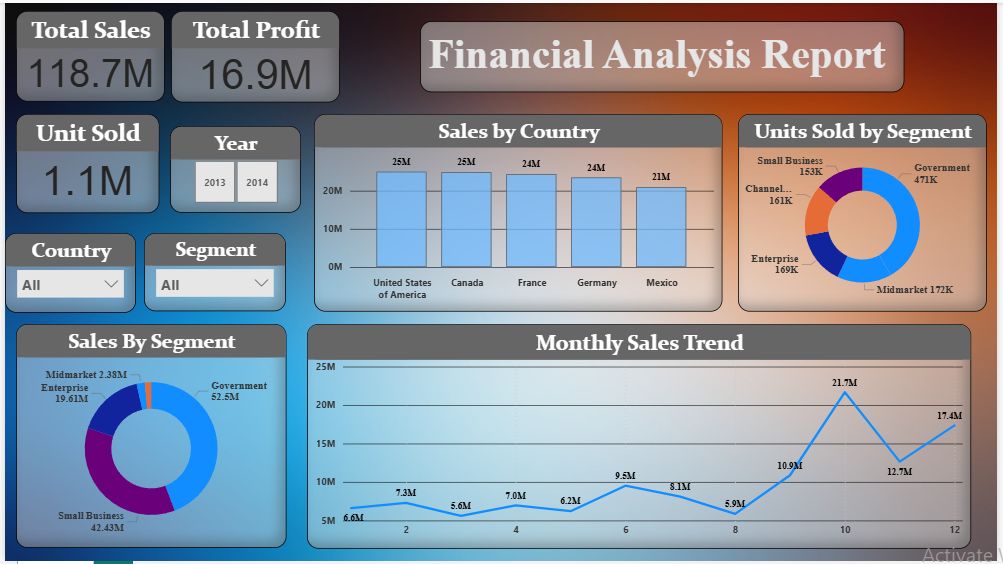

The page's visual inventory and layout, read from the dashboard file:
{"tool":"powerbi","page":{"name":"Page 1","canvas":[1280,720],"ordinal":0},"visuals":[{"type":"card","title":"Total Sales","fields":{"Values":["Sum(financials. Sales)"]},"box":[14.5,10.9,191.8,117],"z":0},{"type":"card","title":"Total Profit","fields":{"Values":["Sum(financials.Profit)"]},"box":[214.7,10.9,218.4,118.2],"z":1000},{"type":"card","title":"Unit Sold","fields":{"Values":["Sum(financials.Units Sold)"]},"box":[14.5,143.6,184.6,127.9],"z":2000},{"type":"donutChart","title":"Sales By Segment","fields":{"Y":["Sum(financials. Sales)"],"Category":["financials.Segment"]},"box":[14.1,413.6,348.7,289.4],"z":3000},{"type":"columnChart","title":"Sales by Country","fields":{"Category":["financials.Country"],"Y":["Sum(financials. Sales)"]},"box":[398.1,143.6,527.2,254.6],"z":4000},{"type":"lineChart","title":"Monthly Sales Trend","fields":{"Y":["Sum(financials. Sales)"],"Category":["financials.Month Number"]},"box":[389.7,413.8,856.6,289.5],"z":5000},{"type":"slicer","title":"Year","fields":{"Values":["financials.Year"]},"box":[213.5,159.3,168.9,112.2],"z":6000},{"type":"slicer","title":"Segment","fields":{"Values":["financials.Segment"]},"box":[179.8,296.8,183.4,101.3],"z":7000},{"type":"slicer","title":"Country","fields":{"Values":["financials.Country"]},"box":[0,296.8,168.9,102.5],"z":8000},{"type":"donutChart","title":"Units Sold by Segment","fields":{"Category":["financials.Segment"],"Y":["Sum(financials.Units Sold)"]},"box":[945.8,143.6,320.9,254.6],"z":9000},{"type":"textbox","box":[535.7,22.9,624.9,91.7],"z":10000}]}

Visuals, with their boxes in screenshot pixels (x1, y1, x2, y2), scaled from the page's 1280x720 canvas onto the 1003x564 screenshot:
"Total Sales" card: <region>11, 9, 162, 100</region>
"Total Profit" card: <region>168, 9, 339, 101</region>
"Unit Sold" card: <region>11, 112, 156, 213</region>
"Sales By Segment" donutChart: <region>11, 324, 284, 551</region>
"Sales by Country" columnChart: <region>312, 112, 725, 312</region>
"Monthly Sales Trend" lineChart: <region>305, 324, 977, 551</region>
"Year" slicer: <region>167, 125, 300, 213</region>
"Segment" slicer: <region>141, 232, 285, 312</region>
"Country" slicer: <region>0, 232, 132, 313</region>
"Units Sold by Segment" donutChart: <region>741, 112, 993, 312</region>
textbox: <region>420, 18, 909, 90</region>
